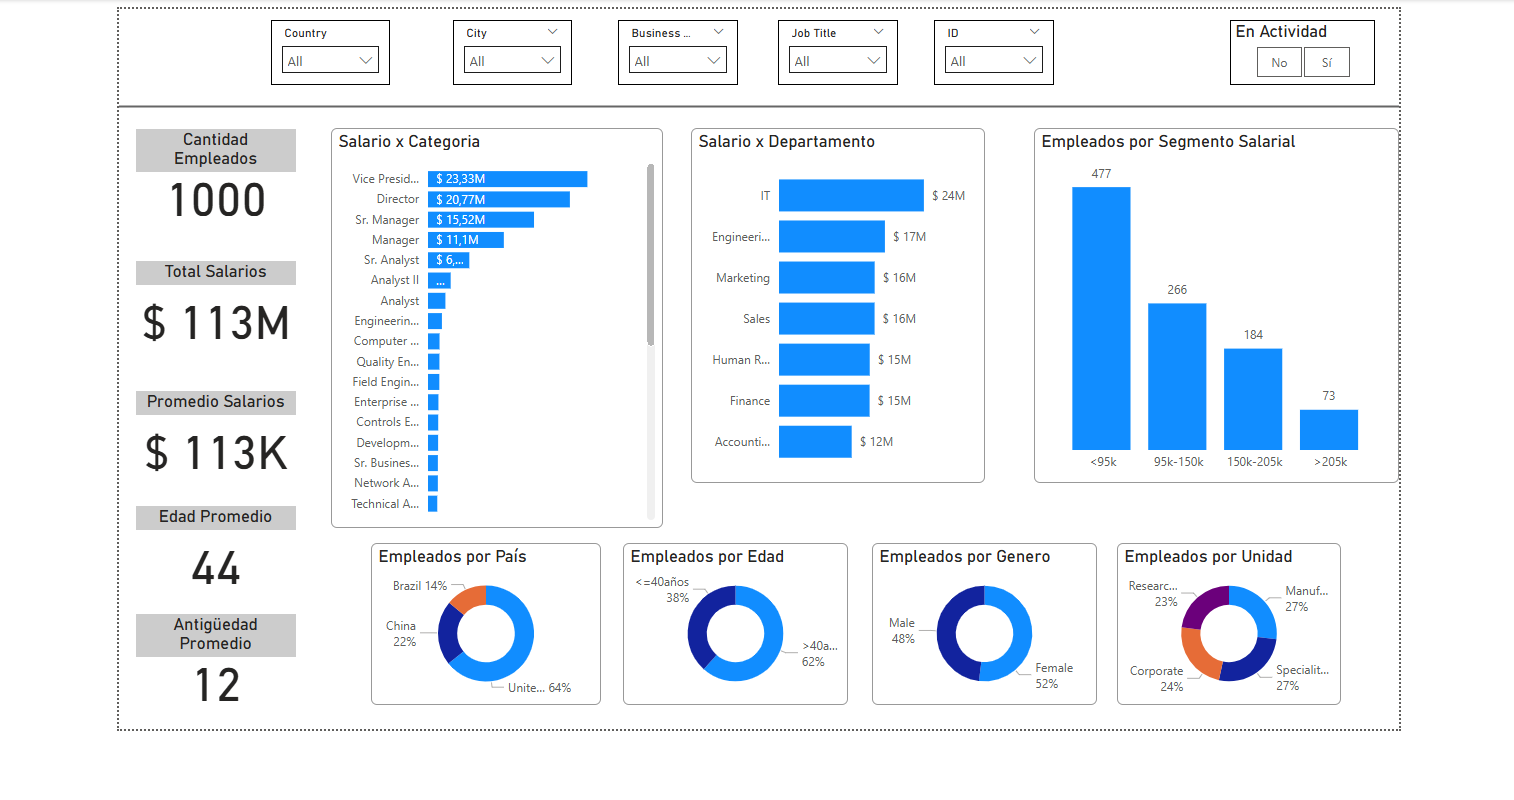

The page's visual inventory and layout, read from the dashboard file:
{"tool":"powerbi","page":{"name":"Resumen","canvas":[1280,720],"ordinal":0},"visuals":[{"type":"slicer","fields":{"Values":["Empleados.ID"]},"box":[815.1,10.7,119.6,65.2],"z":0},{"type":"slicer","fields":{"Values":["Empleados.City"]},"box":[333.6,10.7,119.6,65.2],"z":1000},{"type":"slicer","fields":{"Values":["Empleados.Business Unit"]},"box":[499,10.7,119.6,65.2],"z":2000},{"type":"slicer","fields":{"Values":["Empleados.Job Title"]},"box":[659.5,10.7,119.6,65.2],"z":3000},{"type":"slicer","fields":{"Values":["Empleados.Country"]},"box":[151.7,10.7,119.6,65.2],"z":4000},{"type":"slicer","title":"En Actividad","fields":{"Values":["Empleados.En Actividad"]},"box":[1110.8,10.7,144.9,65.2],"z":5000},{"type":"shape","box":[0,91.4,1280,12.6],"z":6000},{"type":"card","title":"Cantidad Empleados","fields":{"Values":["CountNonNull(Empleados.ID)"]},"box":[16.5,119.6,160.5,92.4],"z":7000},{"type":"card","title":"Total Salarios","fields":{"Values":["Sum(Empleados.Annual Salary)"]},"box":[16.5,251.9,160.5,92.4],"z":8000},{"type":"card","title":"Promedio Salarios","fields":{"Values":["Avg(Empleados.Annual Salary)"]},"box":[16.5,382.2,160.5,92.4],"z":9000},{"type":"card","title":"Edad Promedio","fields":{"Values":["Avg(Empleados.Age)"]},"box":[16.5,497,160.5,92.4],"z":10000},{"type":"card","title":"Antigüedad Promedio","fields":{"Values":["Avg(Empleados.Antigüedad)"]},"box":[16.5,605,160.5,92.4],"z":11000},{"type":"clusteredBarChart","title":"Salario x Departamento","fields":{"Category":["Empleados.Department"],"Y":["Sum(Empleados.Annual Salary)"]},"box":[572.3,119.1,293.6,355.3],"z":12000},{"type":"clusteredBarChart","title":"Salario x Categoria","fields":{"Y":["Sum(Empleados.Annual Salary)"],"Category":["Empleados.Job Title"]},"box":[211.7,119.1,331.9,400],"z":13000},{"type":"clusteredColumnChart","title":"Empleados por Segmento Salarial","fields":{"Category":["Empleados.Grupo Salario"],"Y":["CountNonNull(Empleados.ID)"]},"box":[914.9,119.1,364.9,355.3],"z":14000},{"type":"donutChart","title":"Empleados por País","fields":{"Category":["Empleados.Country"],"Y":["CountNonNull(Empleados.ID)"]},"box":[252.1,534,229.8,161.7],"z":14001},{"type":"donutChart","title":"Empleados por Edad","fields":{"Y":["CountNonNull(Empleados.ID)"],"Category":["Empleados.Grupo Edad"]},"box":[504.3,534,224.5,161.7],"z":14002},{"type":"donutChart","title":"Empleados por Genero","fields":{"Y":["CountNonNull(Empleados.ID)"],"Category":["Empleados.Gender"]},"box":[753.2,534,224.5,161.7],"z":14003},{"type":"donutChart","title":"Empleados por Unidad","fields":{"Y":["CountNonNull(Empleados.ID)"],"Category":["Empleados.Business Unit"]},"box":[997.9,534,224.5,161.7],"z":14004}]}

Visuals, with their boxes on the page's 1280x720 design canvas (x1, y1, x2, y2). These are canvas units, not pixel positions in the 1514x800 screenshot, which may show the page scaled, cropped or inside an application window:
slicer - Empleados.ID: 815:11:935:76
slicer - Empleados.City: 334:11:453:76
slicer - Empleados.Business Unit: 499:11:619:76
slicer - Empleados.Job Title: 660:11:779:76
slicer - Empleados.Country: 152:11:271:76
"En Actividad" slicer: 1111:11:1256:76
shape: 0:91:1280:104
"Cantidad Empleados" card: 16:120:177:212
"Total Salarios" card: 16:252:177:344
"Promedio Salarios" card: 16:382:177:475
"Edad Promedio" card: 16:497:177:589
"Antigüedad Promedio" card: 16:605:177:697
"Salario x Departamento" clusteredBarChart: 572:119:866:474
"Salario x Categoria" clusteredBarChart: 212:119:544:519
"Empleados por Segmento Salarial" clusteredColumnChart: 915:119:1280:474
"Empleados por País" donutChart: 252:534:482:696
"Empleados por Edad" donutChart: 504:534:729:696
"Empleados por Genero" donutChart: 753:534:978:696
"Empleados por Unidad" donutChart: 998:534:1222:696
